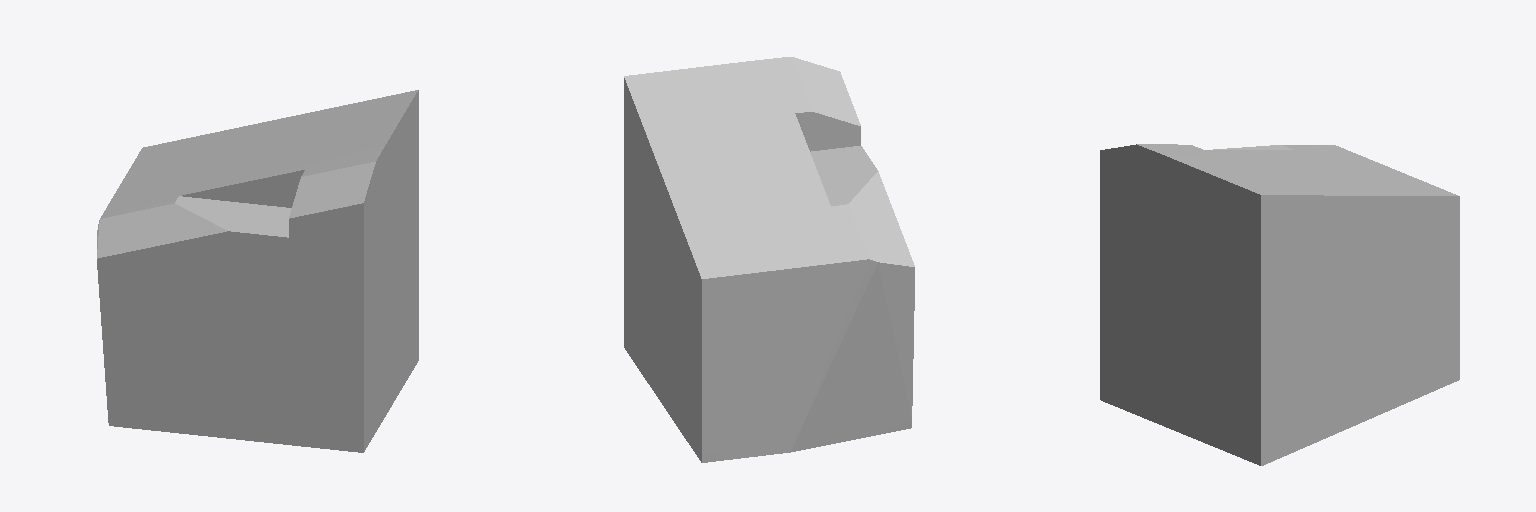
The model's file is li-fang-ti-.001_cell.040.obj.
3 renders of one model, left to right at view 1: azimuth 30°, elevation 25°; view 2: azimuth 150°, elevation 25°; view 3: azimuth 270°, elevation 25°, orthographic.
Visible parts, largest first — view 1: 立方体.001_cell.040; view 2: 立方体.001_cell.040; view 3: 立方体.001_cell.040.
Boxes of the visible parts, box(x1,y1,x2,y2) form: 立方体.001_cell.040: box(97, 90, 418, 452); 立方体.001_cell.040: box(624, 57, 914, 462); 立方体.001_cell.040: box(1100, 144, 1459, 465).
Size of the model in its own units: 0.6271 by 0.53 by 0.637.